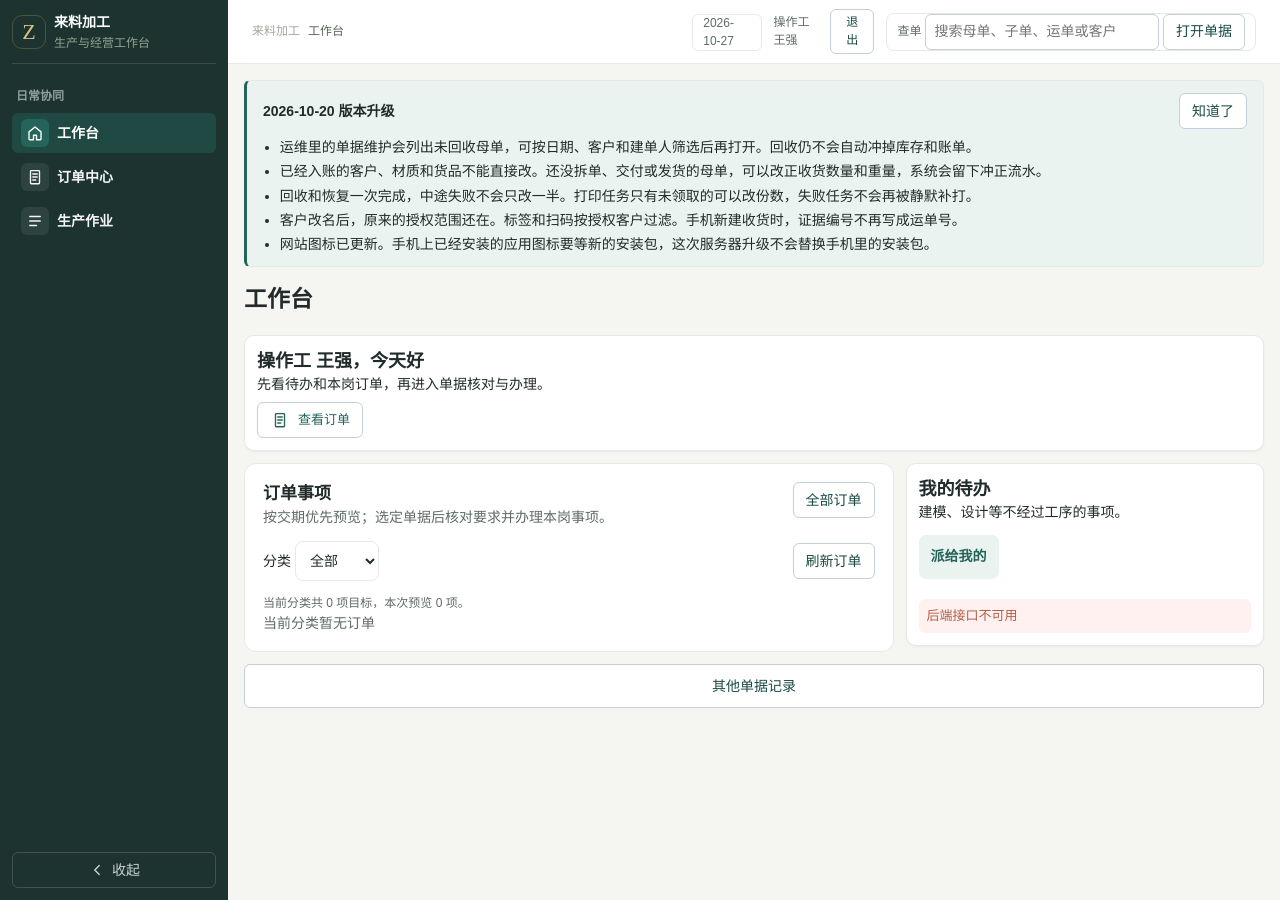
Test: App › 只有进度菜单仍可进入生产岗位查询，空菜单不会展开为全量管理菜单
Click the button "生产作业" at [114, 221], box 12,201 -> 216,241
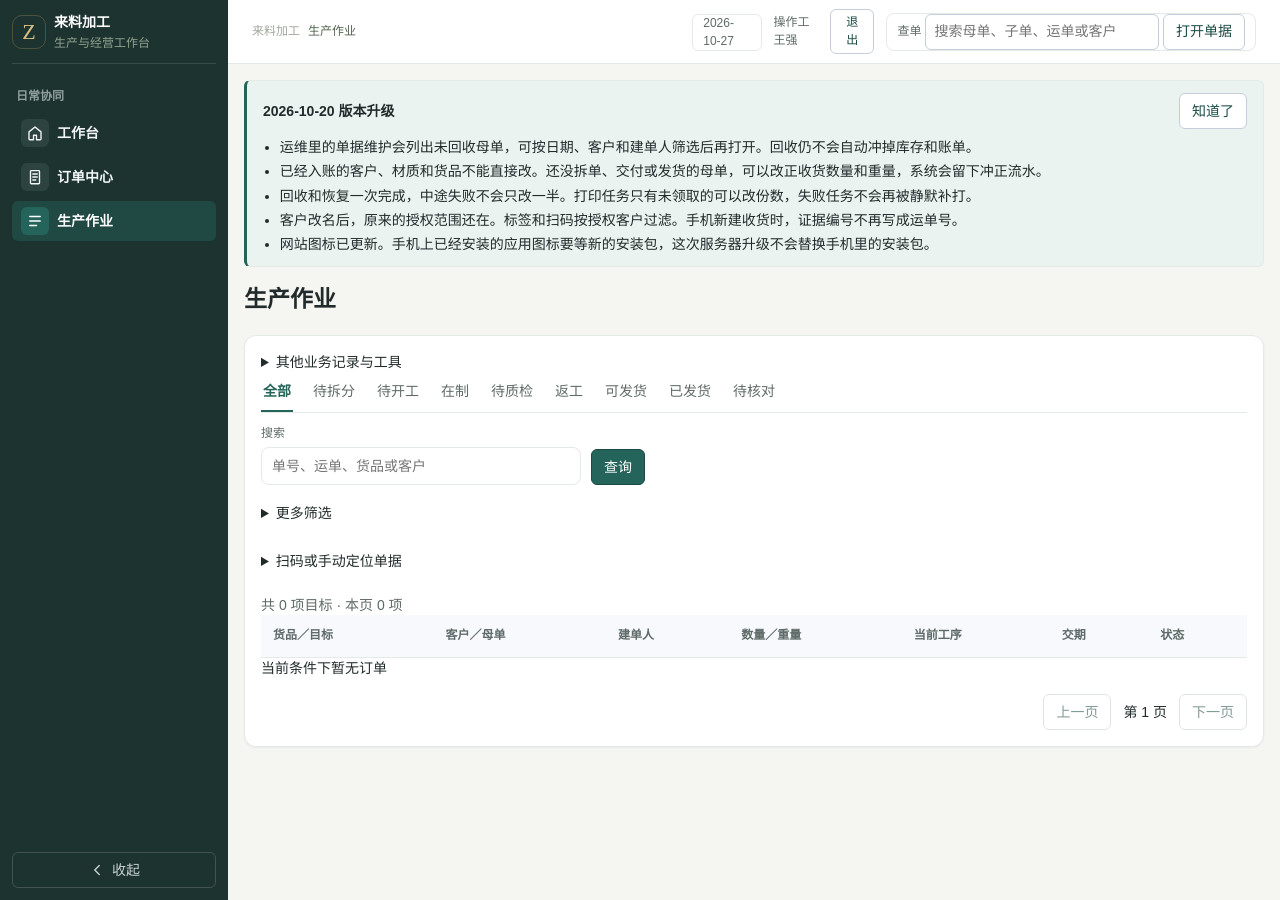
Now the element named "订单查询列表" is shown, box 244,335 -> 1264,747
